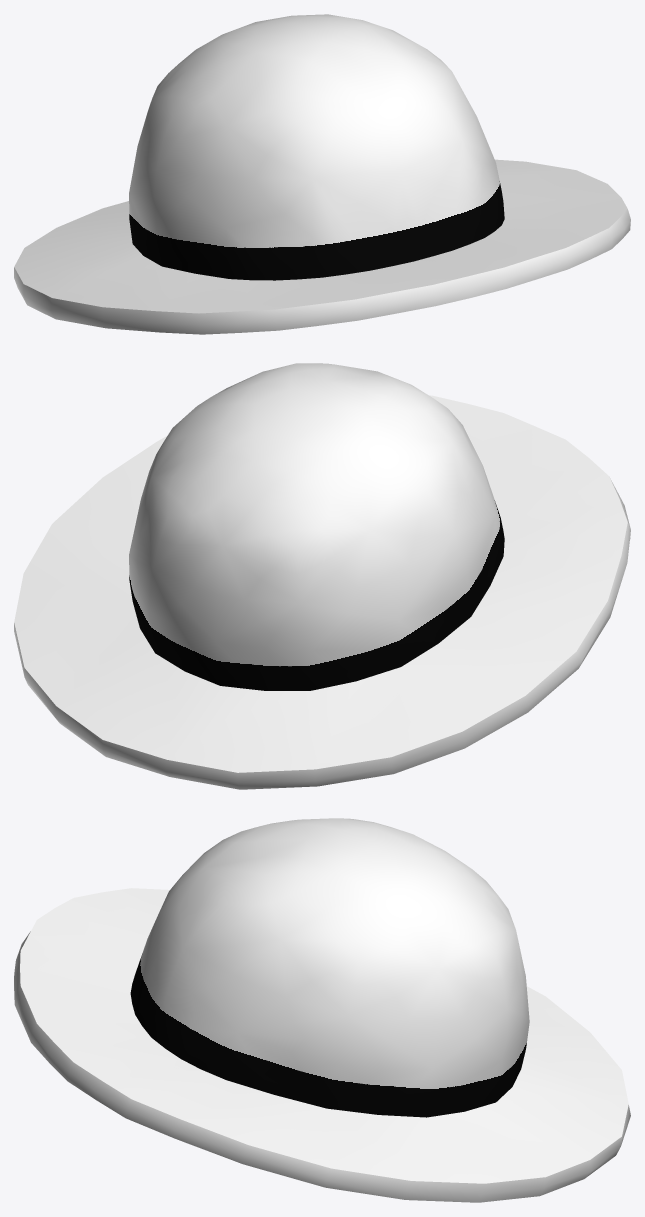
The model's file is hat_7.glb.
3 renders of one model, top to bottom at view 1: azimuth 30°, elevation 25°; view 2: azimuth 150°, elevation 25°; view 3: azimuth 270°, elevation 25°, orthographic.
Visible parts, largest first — view 1: Straw Hat; view 2: Straw Hat; view 3: Straw Hat.
Part boxes in pixels (bbox=[...]): Straw Hat: bbox=[14, 14, 630, 334]; Straw Hat: bbox=[14, 363, 630, 789]; Straw Hat: bbox=[14, 818, 630, 1202].
Bounding box in the file's own units: 98.52 × 50 × 98.15.
Materials: 1 (1 with a texture image).
